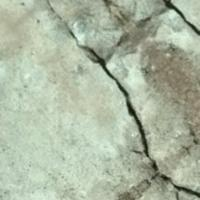crack: (67, 0, 199, 199)
